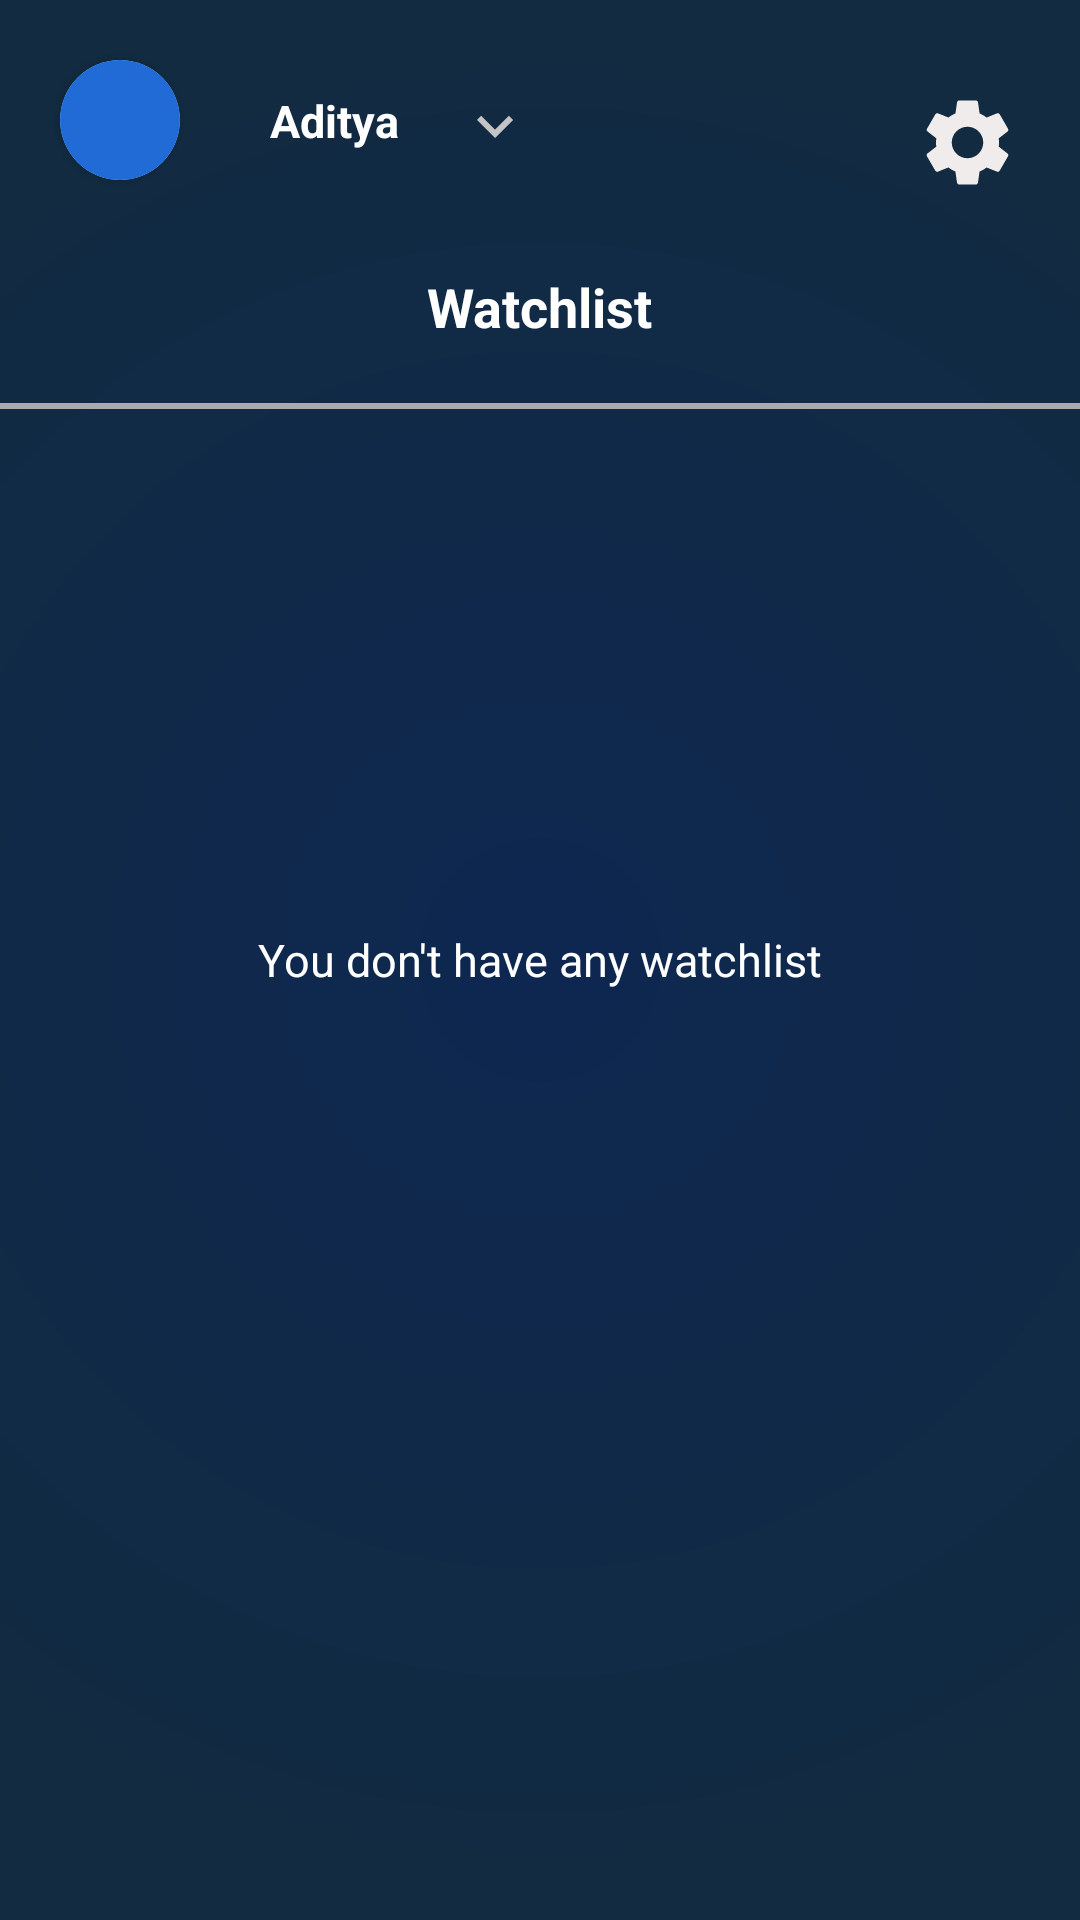

Screen size 1080 x 1920. Icon name, then its box in pixels as [left=x1, top=y1, right=x2, bottom=y2]:
settings: [left=926, top=100, right=1009, bottom=185]
